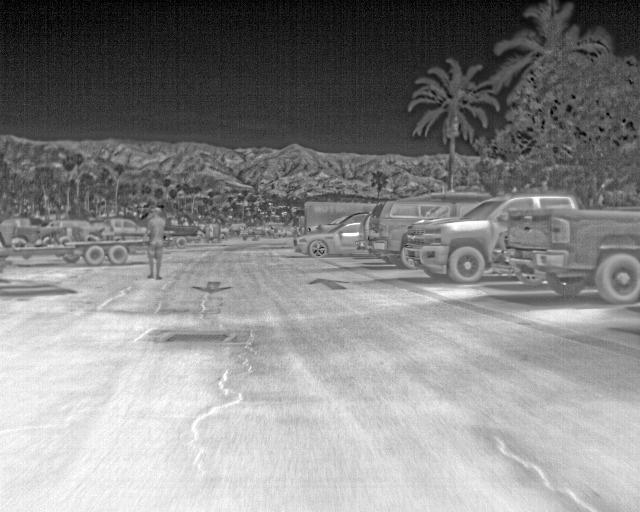bicycle: (402, 192, 575, 280), (501, 204, 636, 307), (364, 201, 474, 269), (291, 224, 360, 256), (108, 216, 151, 237)
empty: (145, 204, 163, 282)
